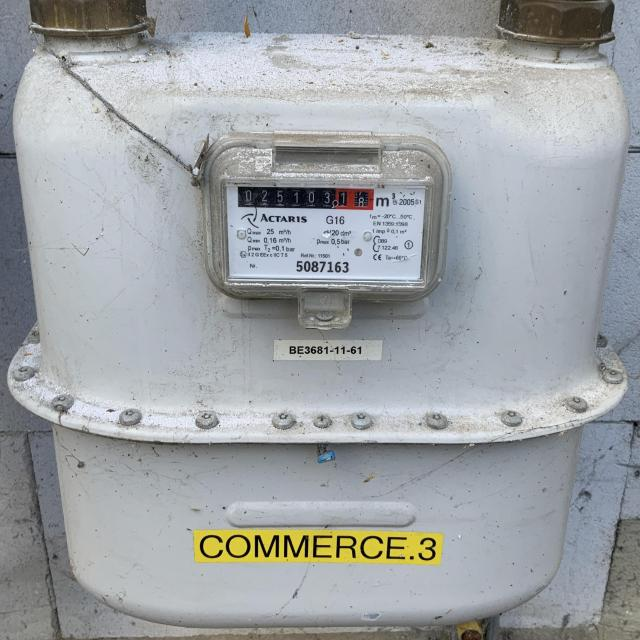gaz_meter: (222, 181, 428, 284)
indication: (238, 185, 375, 213)
